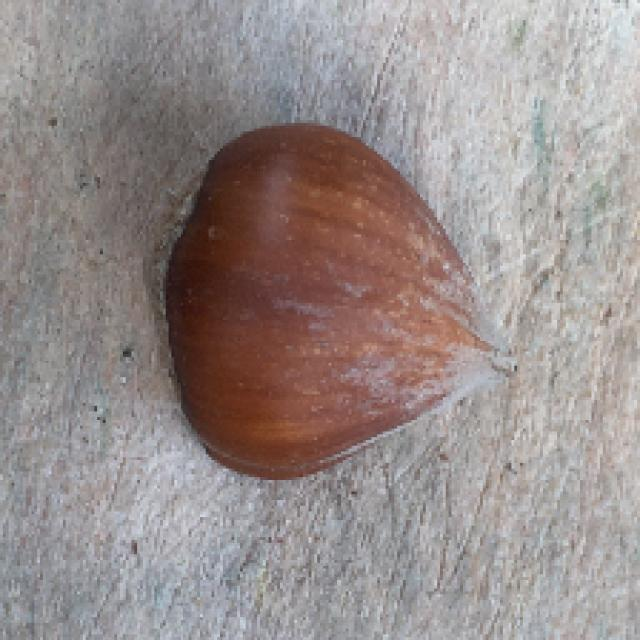QualityHazelnut: (139, 121, 519, 480)
